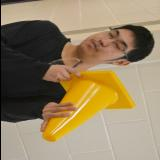cone: (40, 70, 134, 142)
